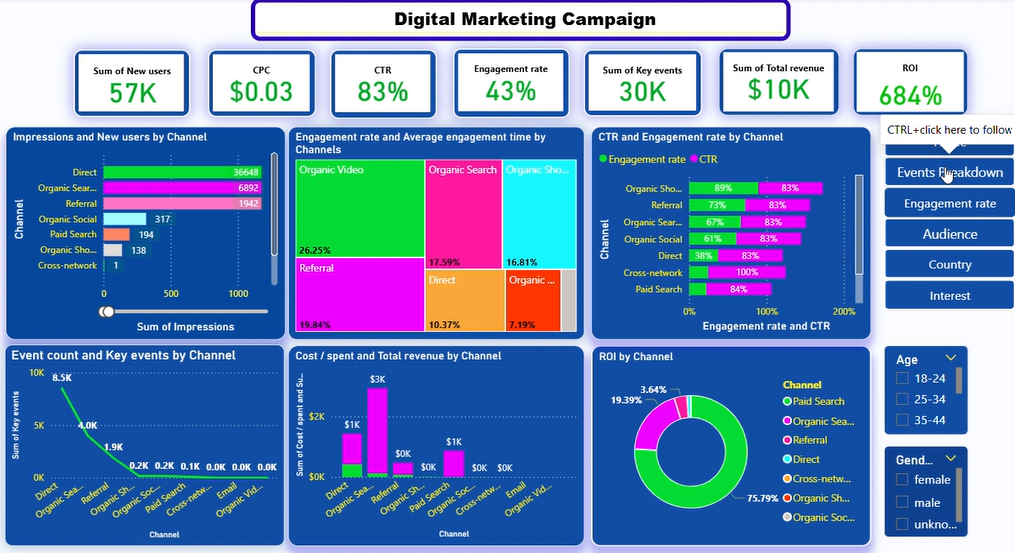

This screenshot's page, from the dashboard's own definition file:
{"tool":"powerbi","page":{"name":"Main Dashboard","canvas":[1337,730],"ordinal":0},"visuals":[{"type":"actionButton","box":[1163.2,208.4,174.1,40.1],"z":0},{"type":"actionButton","box":[1163.2,248.5,174.1,40.1],"z":1000},{"type":"actionButton","box":[1163.2,288.6,174.1,40.1],"z":2000},{"type":"actionButton","box":[1163.2,328.7,174.1,40.1],"z":3000},{"type":"slicer","fields":{"Values":["Table 7 (Demographic details Age).Age"]},"box":[1163.2,455.9,110.6,117.4],"z":4000},{"type":"slicer","fields":{"Values":["Table 9 (Demographic details Gender).Gender"]},"box":[1163.2,588,110.6,120.3],"z":5000},{"type":"barChart","title":"Impressions and New users by Channel","fields":{"Category":["Table 1 (User acquisition).Channel"],"Y":["Sum(Table 1 (User acquisition).Impressions)"]},"box":[10.8,168.3,366.9,279.8],"z":6000},{"type":"columnChart","title":"Cost / spent and Total revenue by Channel","fields":{"Y":["Sum(Table 1 (User acquisition).Cost / spent)","Sum(Table 1 (User acquisition).Total revenue)"],"Category":["Table 1 (User acquisition).Channel"]},"box":[381.6,455.9,388.4,264.2],"z":7000},{"type":"donutChart","fields":{"Category":["Table 1 (User acquisition).Channel"],"Y":["Table 1 (User acquisition).ROI"]},"box":[778.8,455.9,366.9,264.2],"z":8000},{"type":"barChart","title":"CTR and Engagement rate by Channel","fields":{"Category":["Table 1 (User acquisition).Channel"],"Y":["Sum(Table 1 (User acquisition).Engagement rate)","Table 1 (User acquisition).CTR"]},"box":[778.8,168.3,366.9,279.8],"z":9000},{"type":"cardVisual","fields":{"Data":["Sum(Table 1 (User acquisition).New users)"]},"box":[100.8,67.5,152.6,89],"z":10000},{"type":"cardVisual","fields":{"Data":["Table 1 (User acquisition).CPC"]},"box":[276.9,67.5,141.9,89],"z":11000},{"type":"cardVisual","fields":{"Data":["Table 1 (User acquisition).CTR"]},"box":[436.3,67.5,139.9,91],"z":12000},{"type":"cardVisual","fields":{"Data":["Avg(Table 1 (User acquisition).Engagement rate)"]},"box":[598.7,66.5,152.6,91],"z":13000},{"type":"cardVisual","fields":{"Data":["Sum(Table 1 (User acquisition).Key events)"]},"box":[770,67.5,155.6,88.1],"z":14000},{"type":"cardVisual","fields":{"Data":["Sum(Table 1 (User acquisition).Total revenue)"]},"box":[947,66.5,157.5,88.1],"z":15000},{"type":"cardVisual","fields":{"Data":["Table 1 (User acquisition).ROI"]},"box":[1123.1,66.5,150.7,88.1],"z":16000},{"type":"actionButton","title":"Home","box":[1163.2,168.3,174.1,40.1],"z":17000},{"type":"lineChart","title":"Event count and Key events by Channel","fields":{"Category":["Table 1 (User acquisition).Channel"],"Y":["Sum(Table 1 (User acquisition).Key events)"]},"box":[9.8,454.9,366.9,265.1],"z":18000},{"type":"treemap","title":"Engagement rate and Average engagement time by Channels","fields":{"Group":["Table 2 (Traffic acquisition).Channels"],"Values":["Divide(Sum(Table 2 (Traffic acquisition).Engagement rate), ScopedEval(Sum(Table 2 (Traffic acquisition).Engagement rate)"]},"box":[381.6,168.3,388.4,279.8],"z":19000},{"type":"actionButton","box":[1163.2,368.8,174.1,41.1],"z":20000},{"type":"textbox","title":"Digital Marketing Campaign","box":[332.7,0,708.2,56],"z":21000}]}

Visuals, with their boxes in screenshot pixels (x1, y1, x2, y2), scaled from the page's 1337x730 canvas onto the 1015x553 screenshot:
actionButton: [883, 158, 1014, 188]
actionButton: [883, 188, 1014, 219]
actionButton: [883, 219, 1014, 249]
actionButton: [883, 249, 1014, 279]
slicer - Table 7 (Demographic details Age).Age: [883, 345, 967, 434]
slicer - Table 9 (Demographic details Gender).Gender: [883, 445, 967, 537]
"Impressions and New users by Channel" barChart: [8, 127, 287, 339]
"Cost / spent and Total revenue by Channel" columnChart: [290, 345, 585, 546]
donutChart - Table 1 (User acquisition).Channel x Table 1 (User acquisition).ROI: [591, 345, 870, 546]
"CTR and Engagement rate by Channel" barChart: [591, 127, 870, 339]
cardVisual - Sum(Table 1 (User acquisition).New users): [77, 51, 192, 119]
cardVisual - Table 1 (User acquisition).CPC: [210, 51, 318, 119]
cardVisual - Table 1 (User acquisition).CTR: [331, 51, 437, 120]
cardVisual - Avg(Table 1 (User acquisition).Engagement rate): [455, 50, 570, 119]
cardVisual - Sum(Table 1 (User acquisition).Key events): [585, 51, 703, 118]
cardVisual - Sum(Table 1 (User acquisition).Total revenue): [719, 50, 838, 117]
cardVisual - Table 1 (User acquisition).ROI: [853, 50, 967, 117]
"Home" actionButton: [883, 127, 1014, 158]
"Event count and Key events by Channel" lineChart: [7, 345, 286, 545]
"Engagement rate and Average engagement time by Channels" treemap: [290, 127, 585, 339]
actionButton: [883, 279, 1014, 311]
"Digital Marketing Campaign" textbox: [253, 0, 790, 42]
